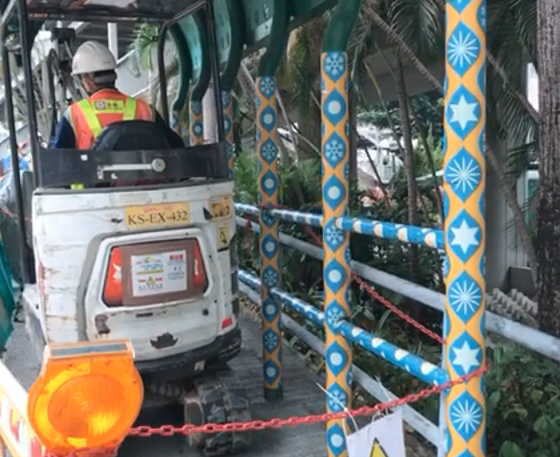Hard Hat: (70, 43, 119, 98)
Vest: (65, 77, 157, 153)
